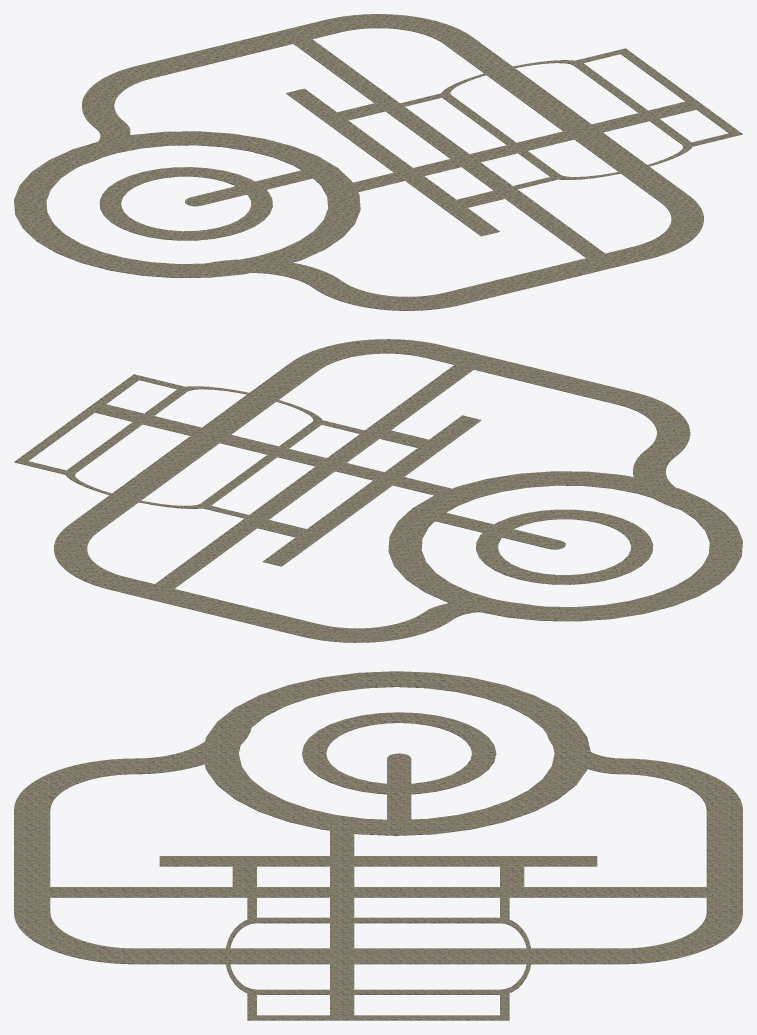
Rendered from road.obj.
The picture shows the model from 3 angles, top to bottom: view 1: azimuth 30°, elevation 25°; view 2: azimuth 150°, elevation 25°; view 3: azimuth 270°, elevation 25°; orthographic projection. The views are drawn at different scales.
Parts seen in each view (by area): view 1: default; view 2: default; view 3: default.
Boxes of the visible parts, x1,y1,x2,y2 form: default: [14, 14, 742, 310]; default: [14, 339, 742, 642]; default: [14, 671, 742, 1020].
Size of the model in its own units: 340 by 0.205 by 300.
